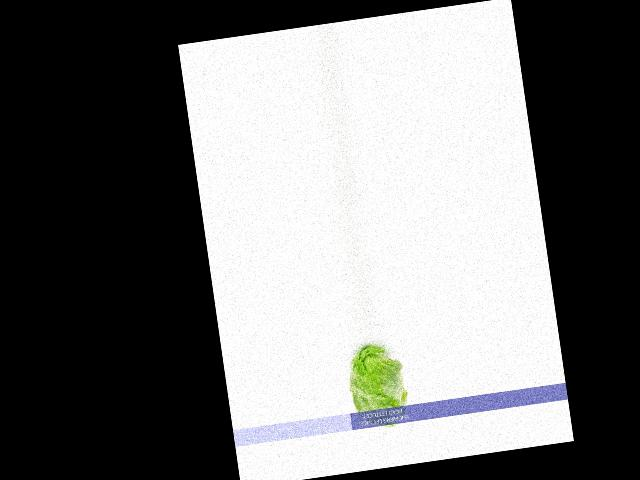lettuce: (345, 337, 411, 432)
